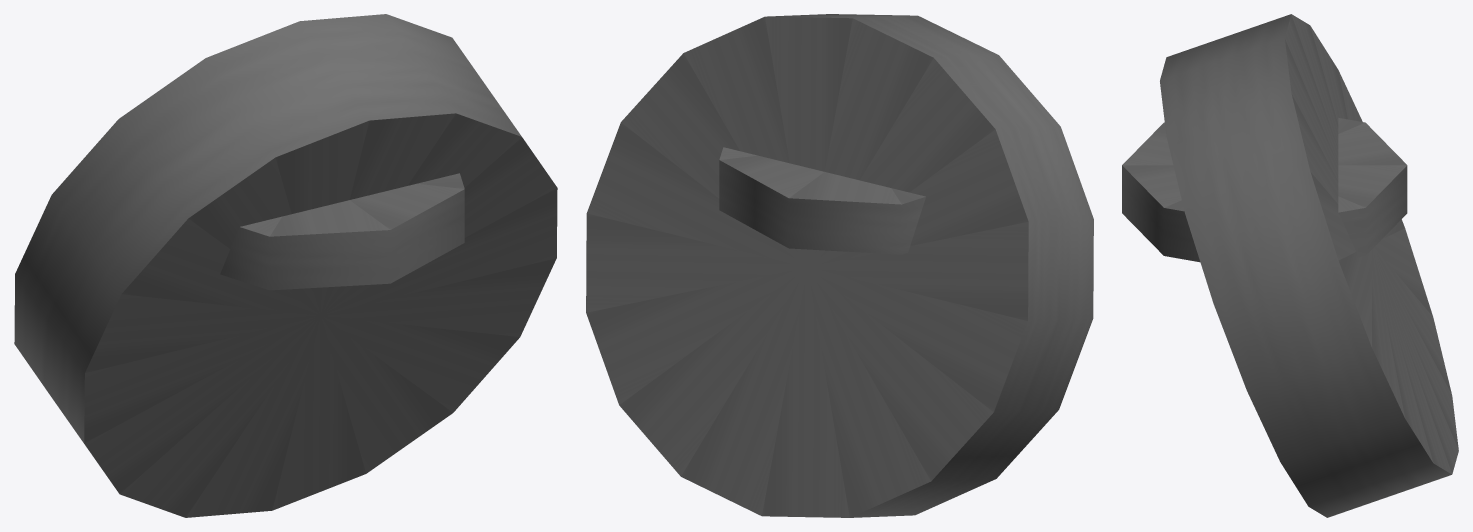
File: mastarmcurve_6x2_c3_up.obj
The picture shows the model from 3 angles, left to right: view 1: azimuth 30°, elevation 25°; view 2: azimuth 150°, elevation 25°; view 3: azimuth 270°, elevation 25°; orthographic projection. The views are drawn at different scales.
Parts seen in each view (by area): view 1: mastarm_6x2_c3_up; view 2: mastarm_6x2_c3_up; view 3: mastarm_6x2_c3_up.
Part boxes in pixels (<box>): mastarm_6x2_c3_up: <box>14,14,557,517</box>; mastarm_6x2_c3_up: <box>586,14,1093,517</box>; mastarm_6x2_c3_up: <box>1122,14,1458,517</box>.
Size of the model in its own units: 0.6841 by 0.706 by 0.4721.
